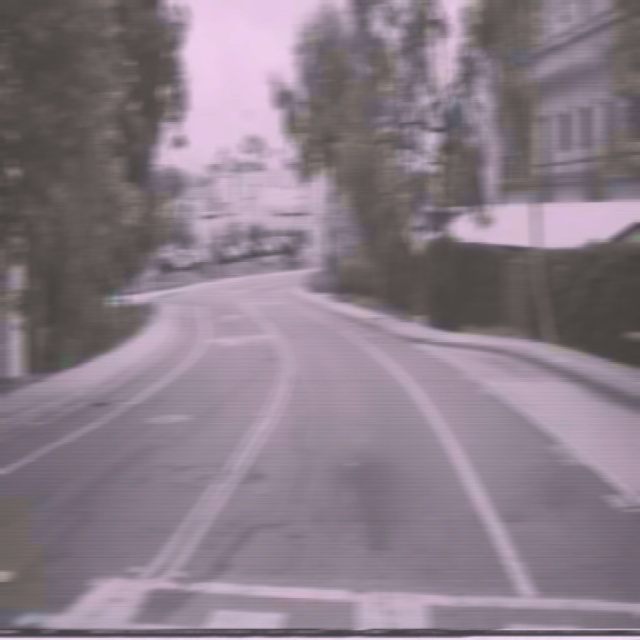turnRight: (406, 208, 429, 255)
